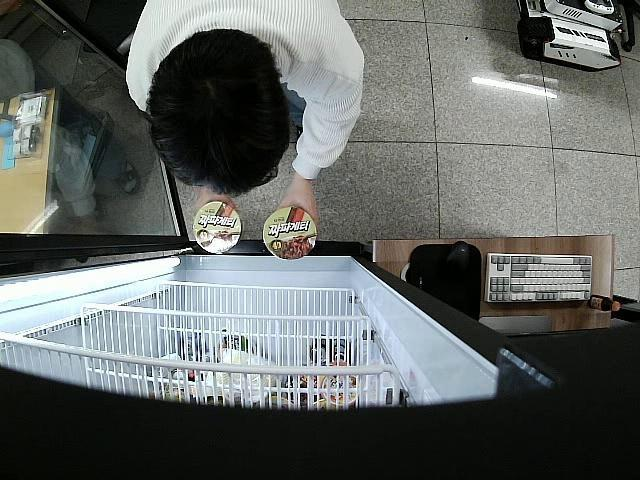03_chapagetti_L: (262, 207, 318, 260), (192, 200, 242, 254)
